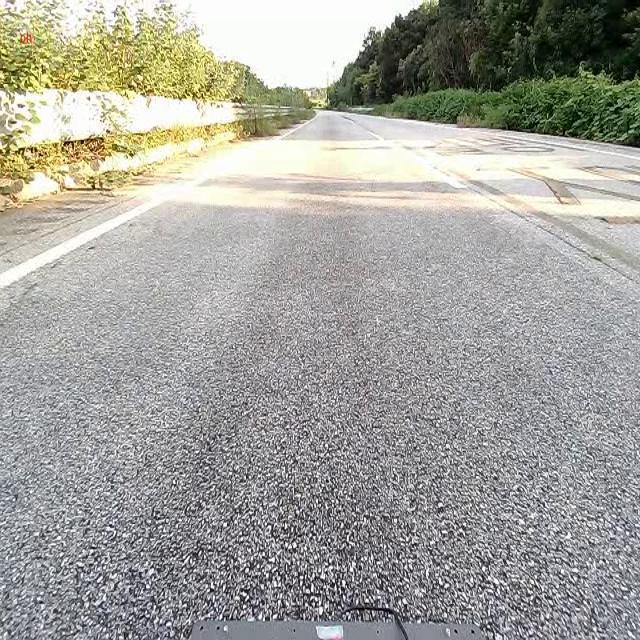Lane: (0, 177, 205, 287), (0, 182, 198, 291)
